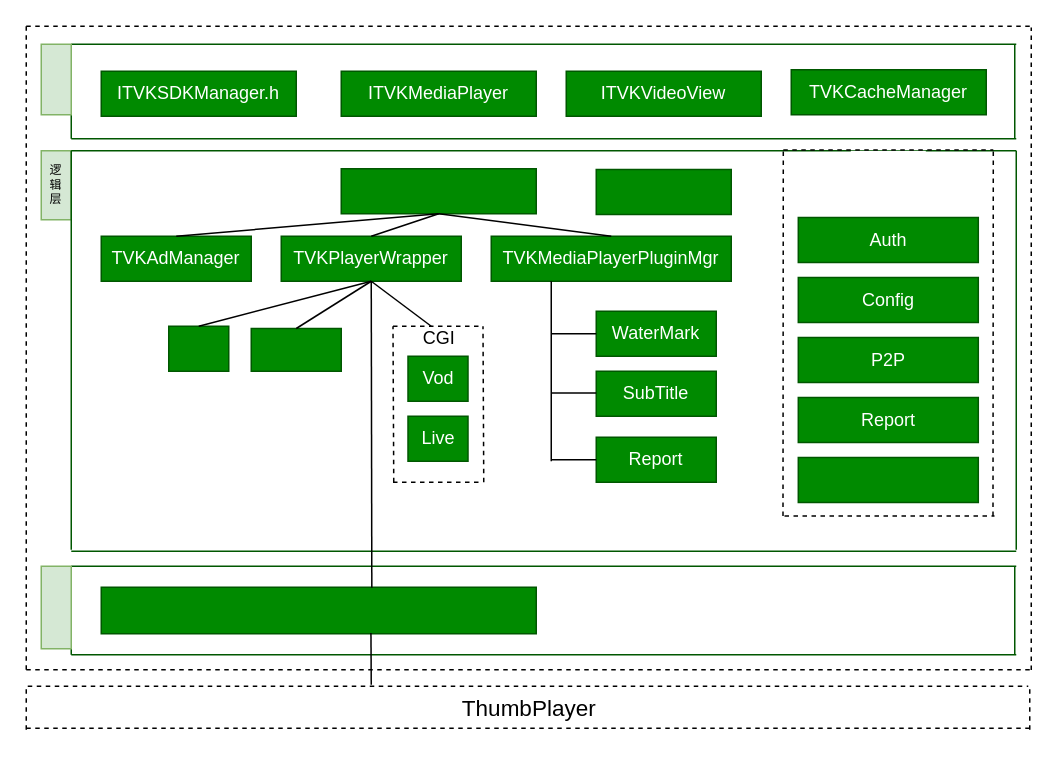
The diagram is 1059 pixels wide and 758 high, and some of its shapes have lost their labels. The centre of each missing label's shape, as x and y in pixels:
"common" belongs at [887,165].
"Monet" belongs at [198,348].
"Network" belongs at [887,479].
"Strategy" belongs at [295,349].
"TVKPlayerManager" belongs at [438,190].
"TVKTPPlayer" belongs at [318,610].
"TVKVideoView" belongs at [663,191].
"接 口 层" belongs at [55,79].
"播 放 器 层" belongs at [55,607].
